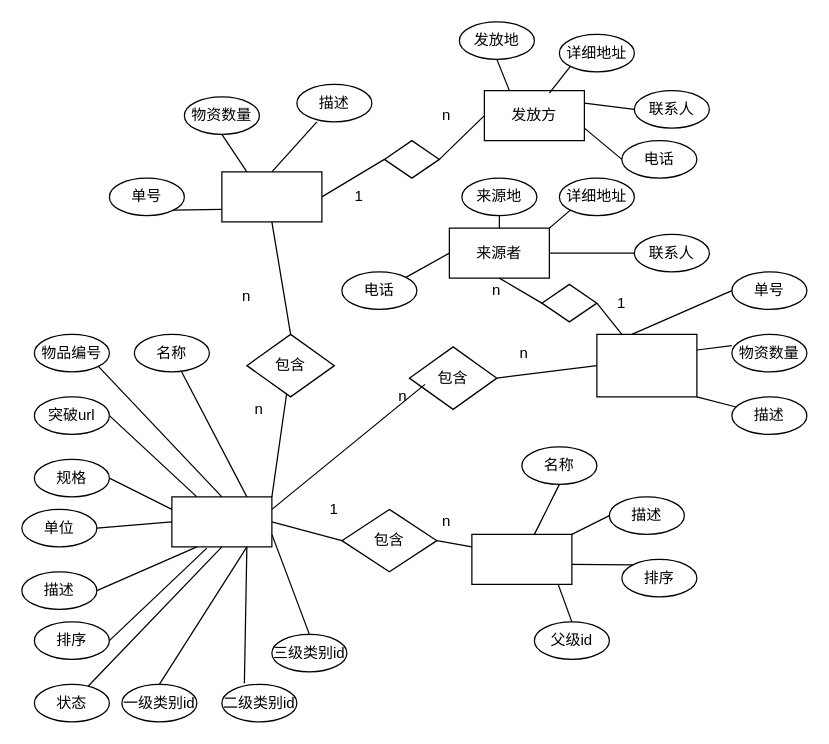
This 829x744 diagram has some shape labels left out. Here are the shapes that lost their labels. From the top down, the centre of each, then its label:
(411,158): 发放
(271,196): 出库单
(569,302): 接收
(646,365): 入库单
(221,521): 物资
(521,558): 物资类别
